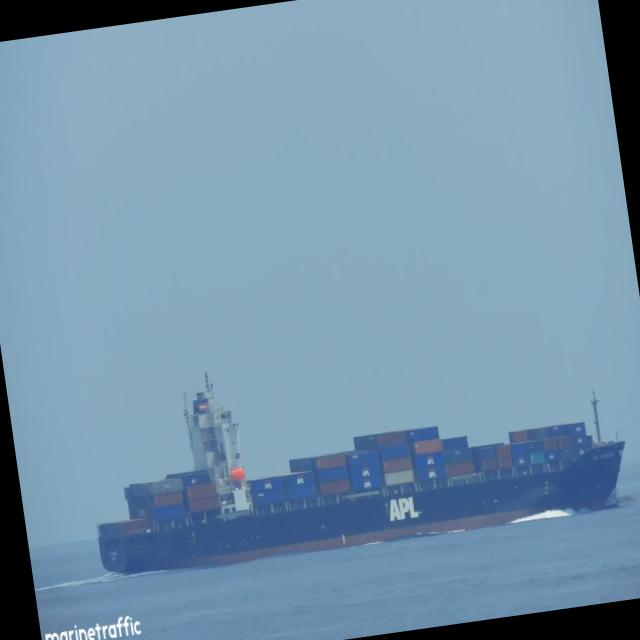Cargo: (97, 380, 624, 573)
